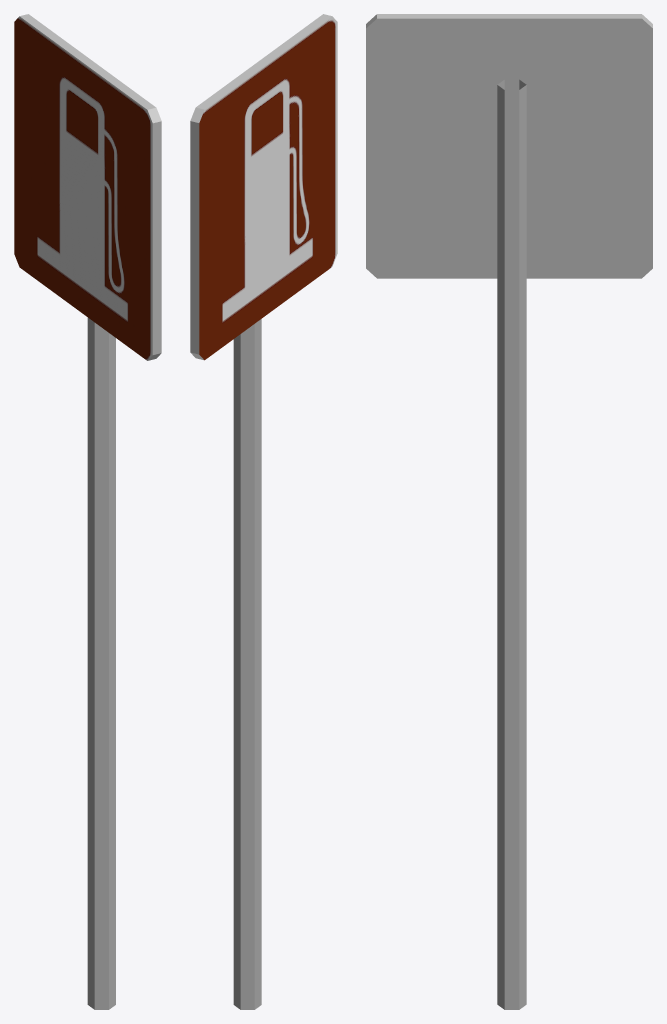
File: Sing3.fbx
The picture shows the model from 3 angles, left to right: view 1: azimuth 30°, elevation 25°; view 2: azimuth 150°, elevation 25°; view 3: azimuth 270°, elevation 25°; orthographic projection. The views are drawn at different scales.
Visible parts, largest first — view 1: Circle.010; view 2: Circle.010; view 3: Circle.010.
Part boxes in pixels (x1,y1,x2,y2): Circle.010: (14, 14, 161, 1009); Circle.010: (190, 14, 337, 1009); Circle.010: (366, 14, 652, 1009).
Bounding box in the file's own units: 12.35 × 370 × 98.17.
